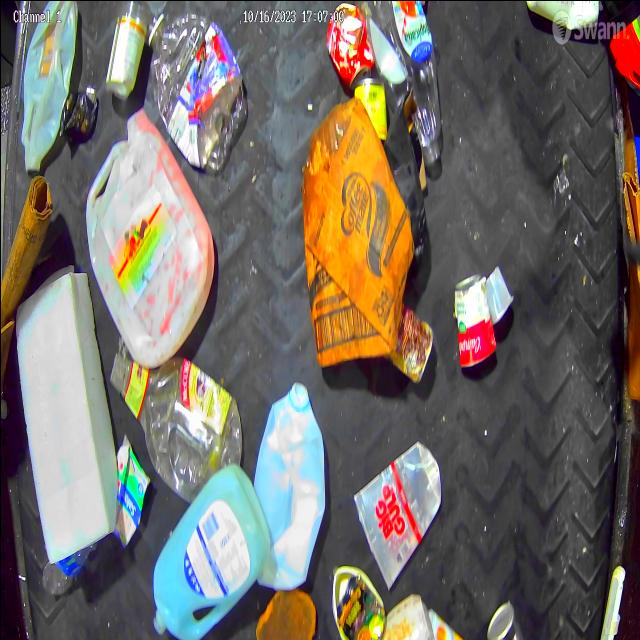can: (450, 265, 500, 376), (325, 0, 372, 80)
milk_jug: (80, 114, 214, 351), (146, 464, 270, 640), (258, 382, 324, 582), (14, 0, 78, 160)
plastic_bottle: (104, 351, 242, 488), (144, 0, 250, 166)
